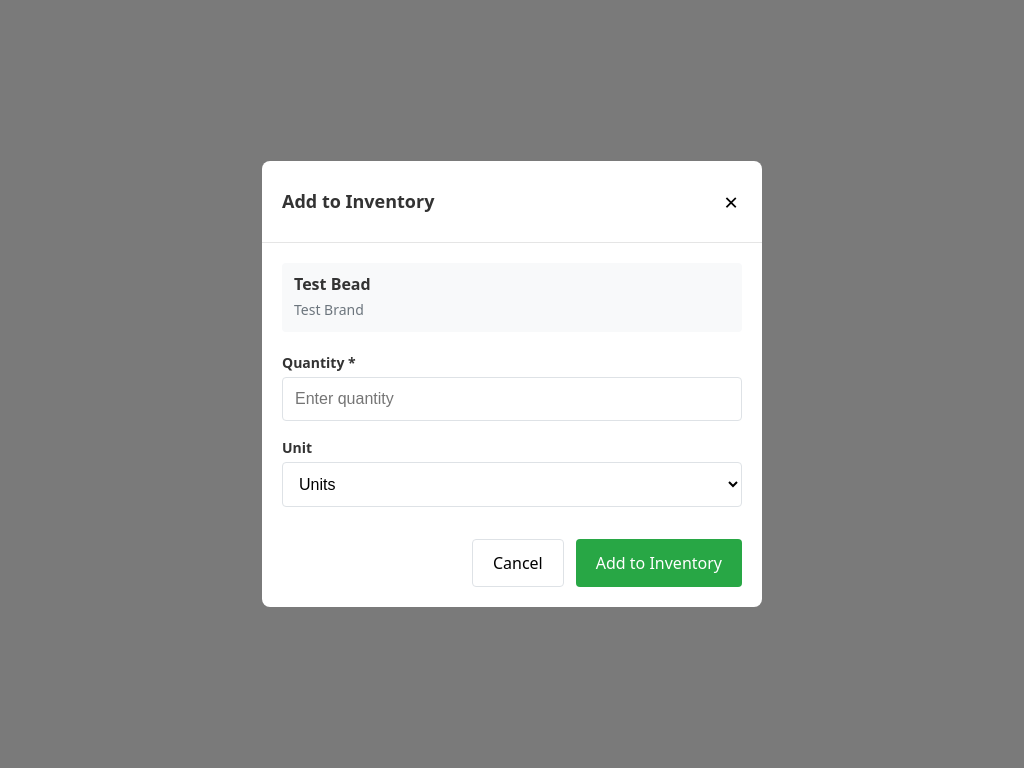
AddToInventoryModal › handles API errors gracefully
Type "10" into the number field labelled "Quantity *". click: (512, 399)
box: [282, 377, 742, 421]
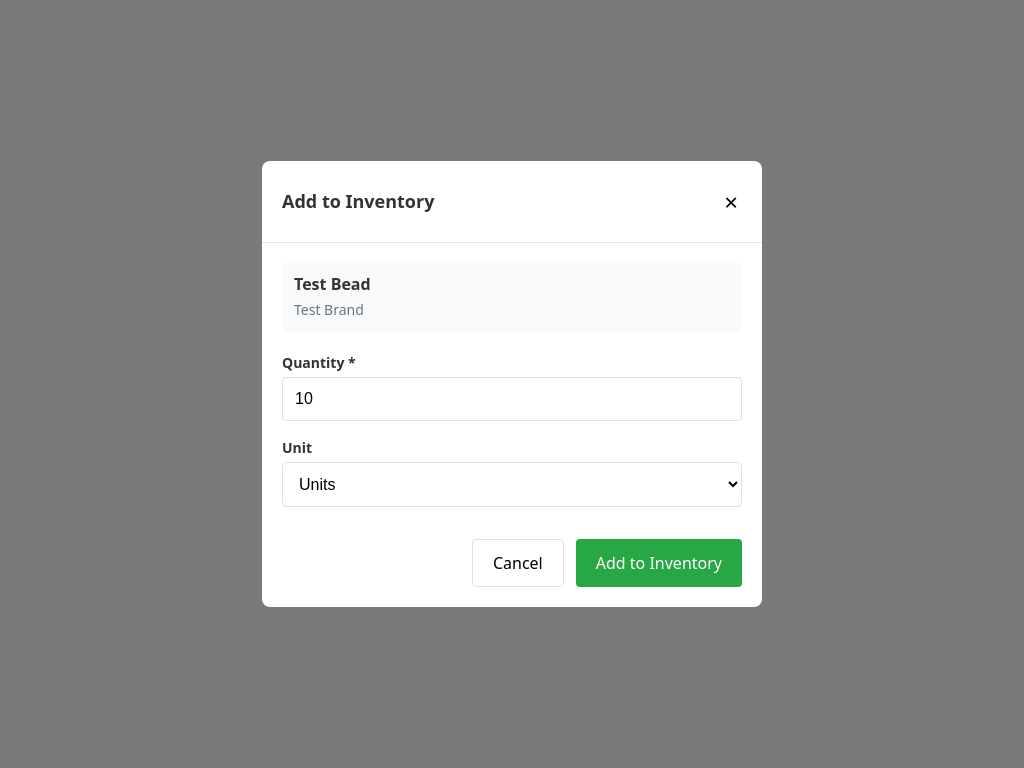
Click the button "Add to Inventory". click: (659, 563)
box: [576, 539, 742, 587]
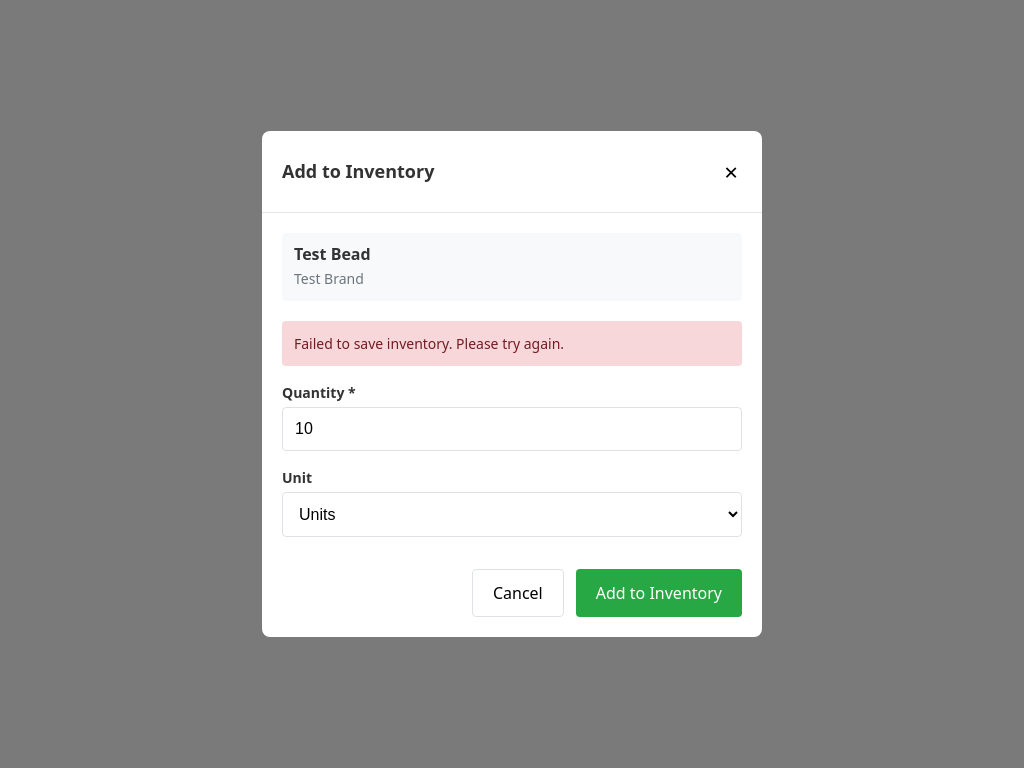
Now the text "Failed to save inventory. Please try again." is shown, box [282, 321, 742, 366]
